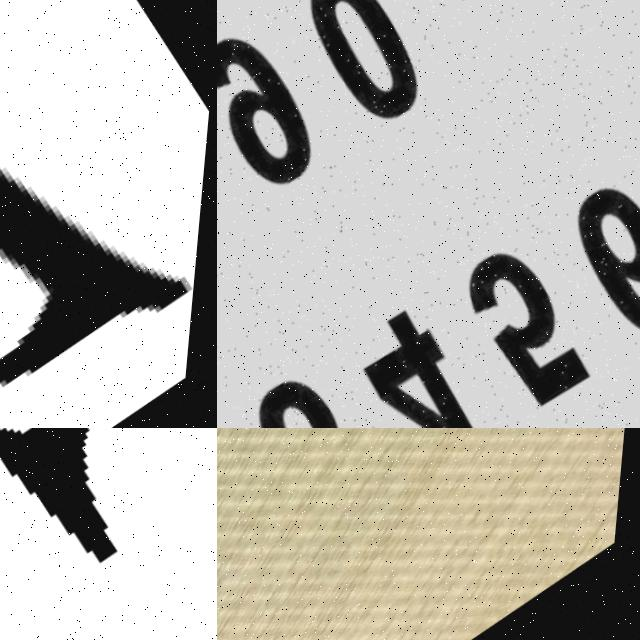0: (266, 0, 487, 169)
3: (222, 338, 445, 428)
4: (324, 276, 538, 428)
5: (421, 207, 640, 428)
6: (526, 144, 640, 394)
8: (217, 67, 270, 294)
9: (217, 2, 374, 229)
Q: (0, 0, 217, 428)
S: (0, 428, 217, 640)
